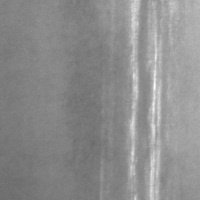scratches: (147, 1, 167, 199), (128, 1, 143, 177)
